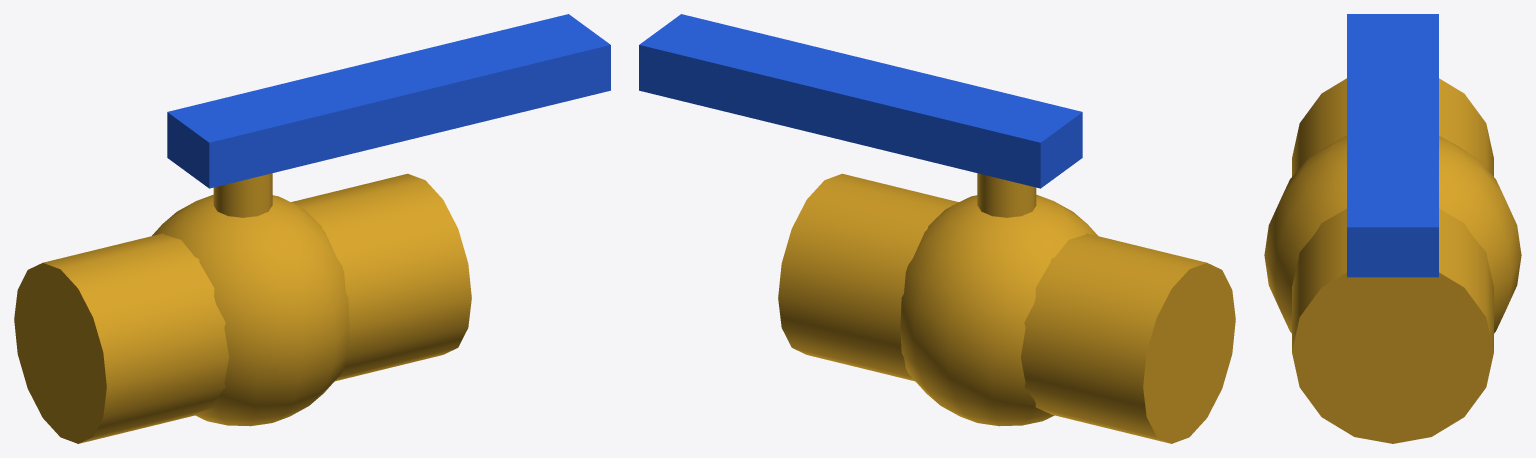
File: valve-full-port-ball.glb
The picture shows the model from 3 angles, left to right: view 1: azimuth 30°, elevation 25°; view 2: azimuth 150°, elevation 25°; view 3: azimuth 270°, elevation 25°; orthographic projection. The views are drawn at different scales.
Parts seen in each view (by area): view 1: plumbing-fitting-ball-valve; view 2: plumbing-fitting-ball-valve; view 3: plumbing-fitting-ball-valve.
Boxes of the visible parts, x1,y1,x2,y2 form: plumbing-fitting-ball-valve: (14,14,610,443); plumbing-fitting-ball-valve: (639,14,1235,443); plumbing-fitting-ball-valve: (1264,14,1521,443).
Bounding box in the file's own units: 0.145 × 0.079 × 0.056.
